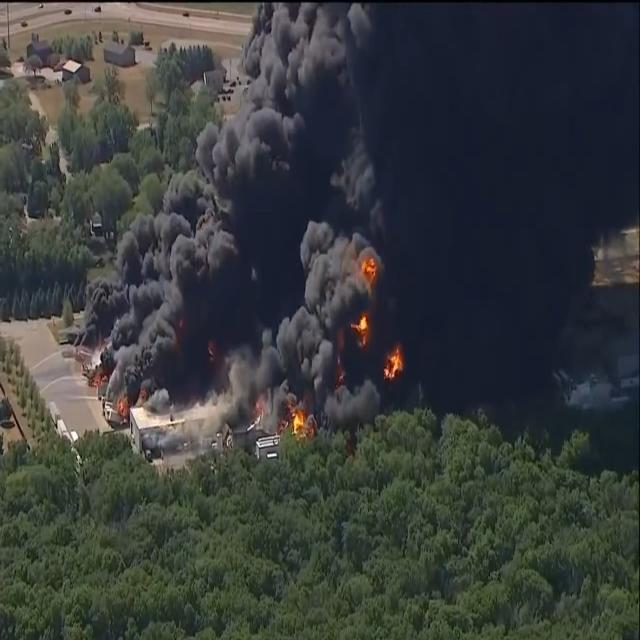Fire: (285, 404, 314, 434), (348, 311, 371, 348), (381, 347, 405, 382), (360, 256, 378, 290), (84, 370, 112, 388), (116, 397, 132, 420)
Smoke: (241, 0, 572, 427), (69, 0, 364, 398)
